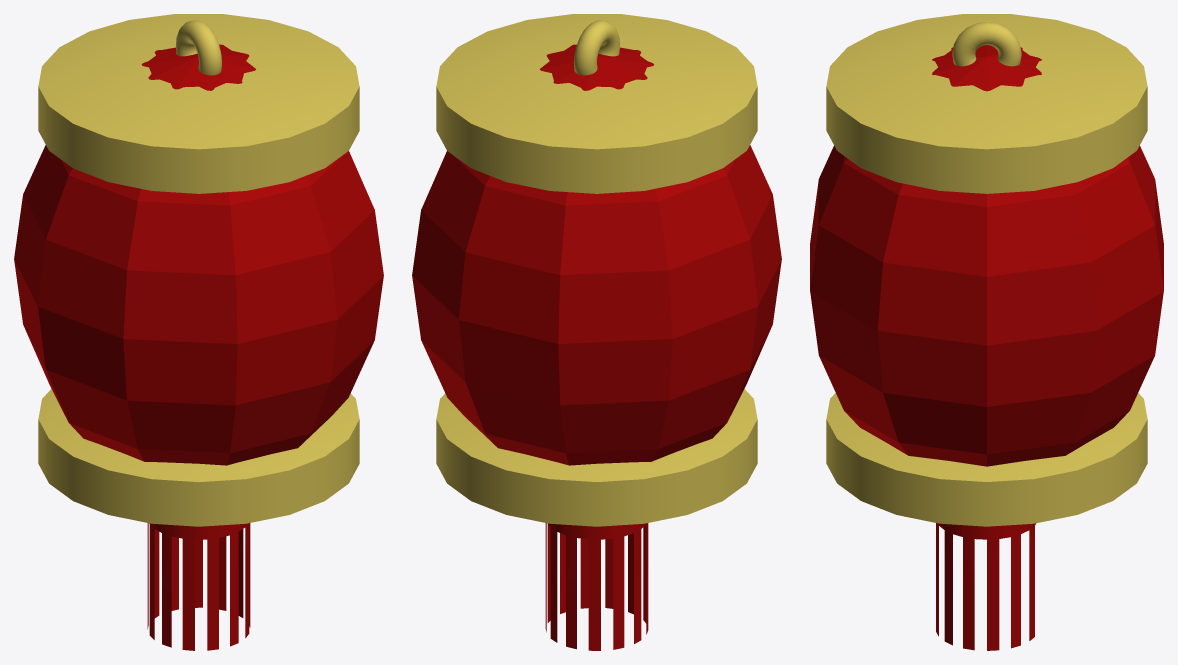
File: Good size lantern.fbx
3 renders of one model, left to right at view 1: azimuth 30°, elevation 25°; view 2: azimuth 150°, elevation 25°; view 3: azimuth 270°, elevation 25°, orthographic.
Parts seen in each view (by area): view 1: pTorus2; view 2: pTorus2; view 3: pTorus2.
Part boxes in pixels (x1,y1,x2,y2): pTorus2: (14, 14, 383, 650); pTorus2: (412, 14, 781, 650); pTorus2: (810, 14, 1163, 650).
Bounding box in the file's own units: 183 × 329 × 174.
